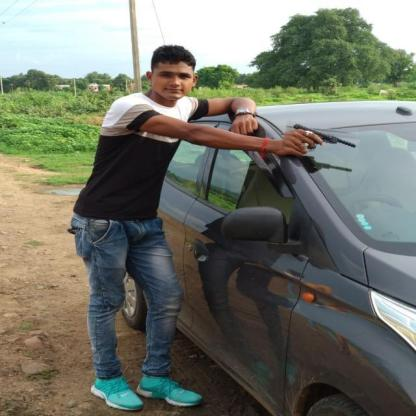handgun: (283, 123, 360, 158)
